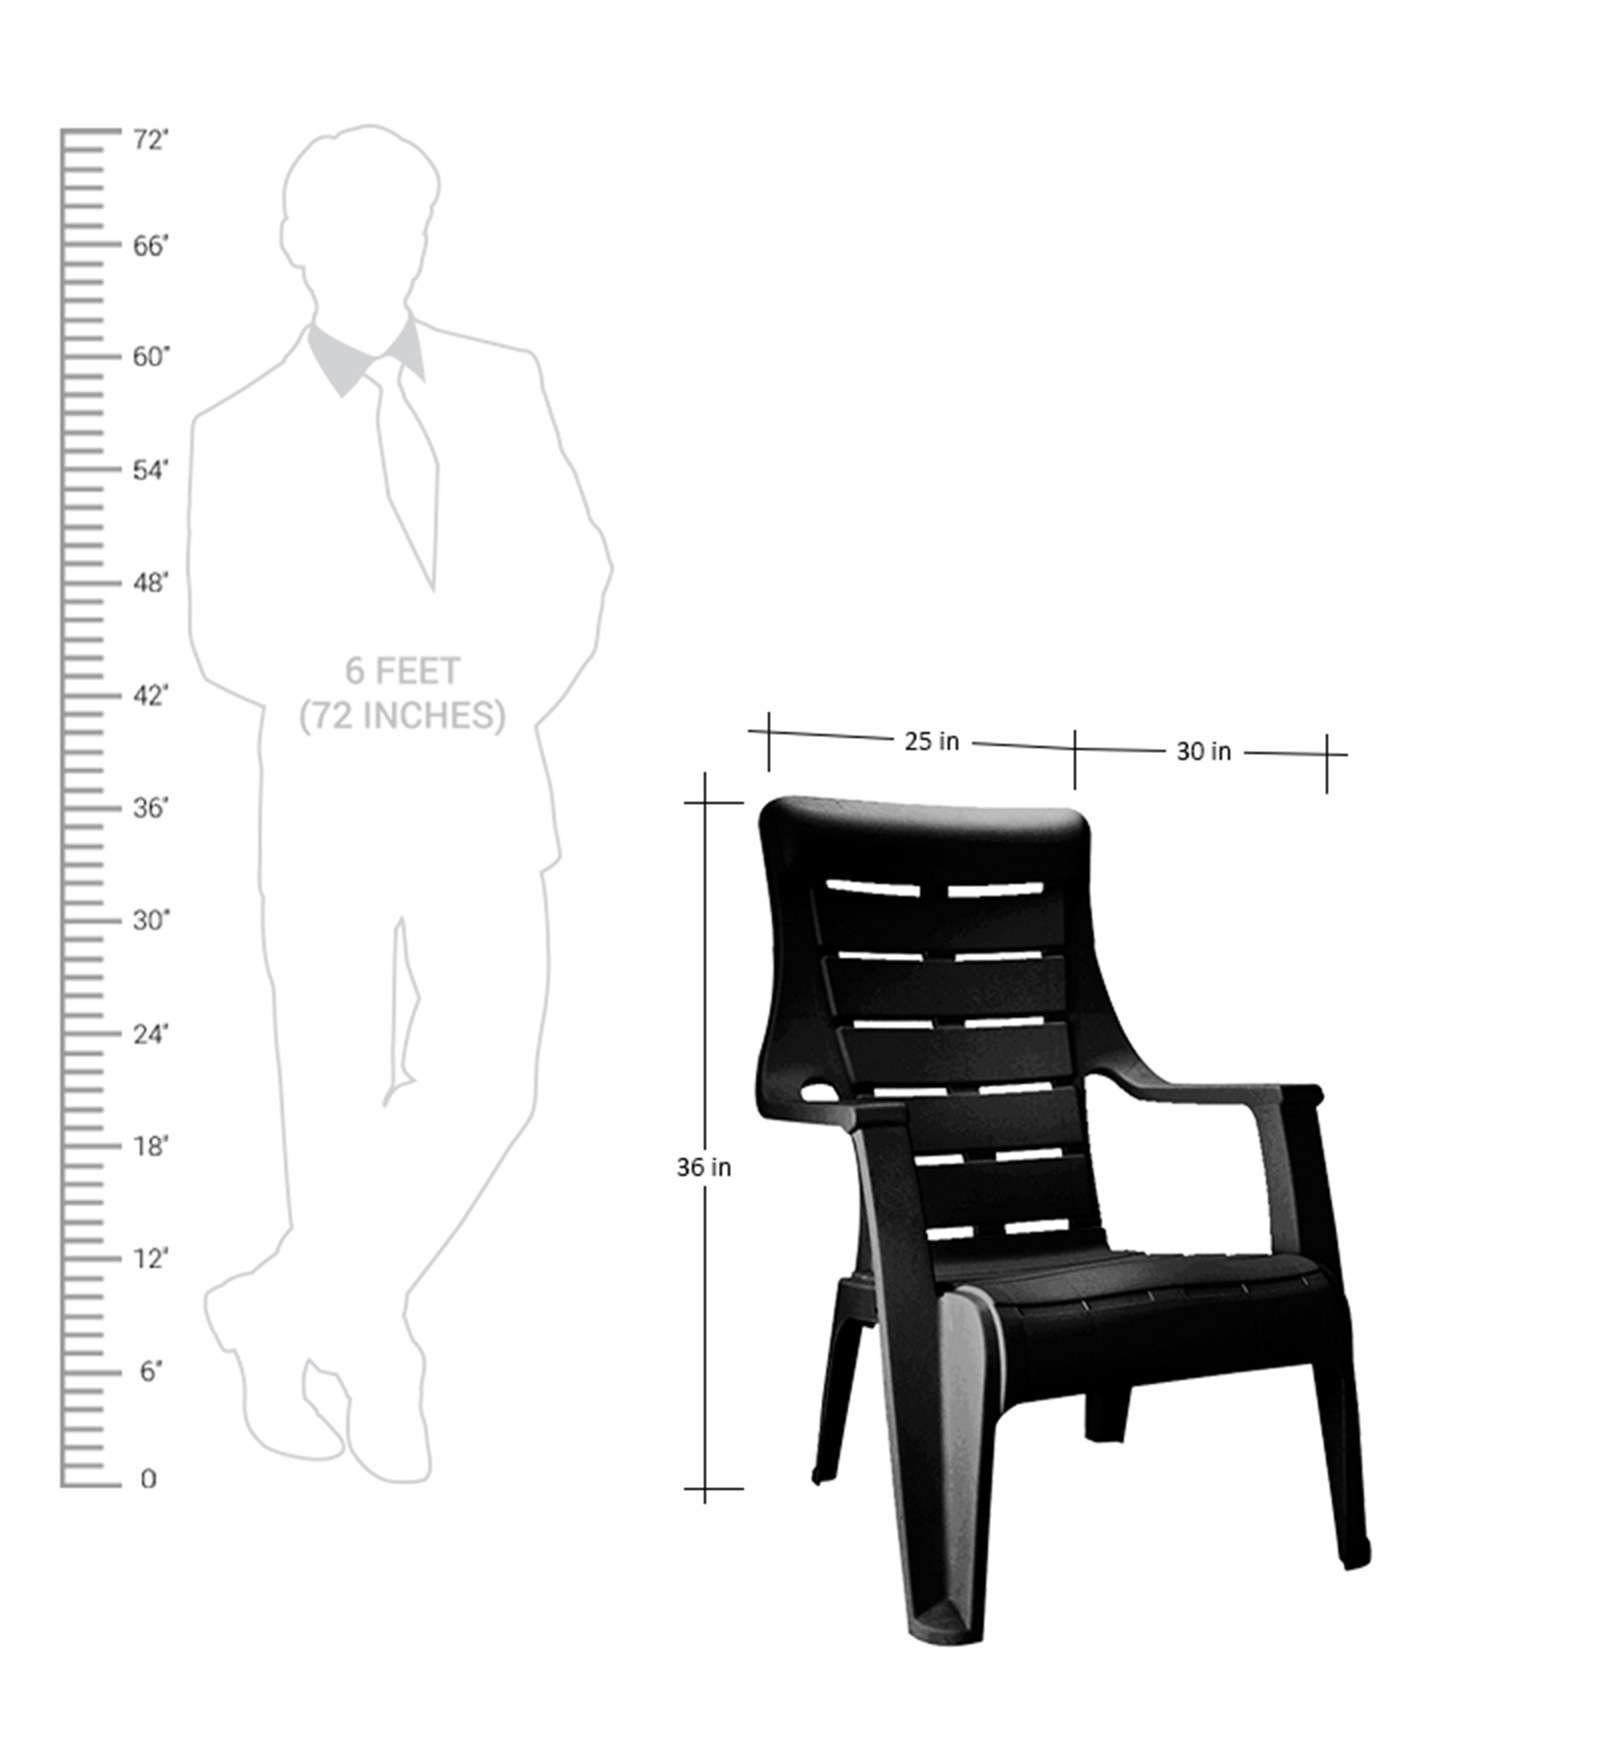Sunday Outdoor Arm Chair in Black Colour by Nilkamal: (742, 773, 1415, 1676)
